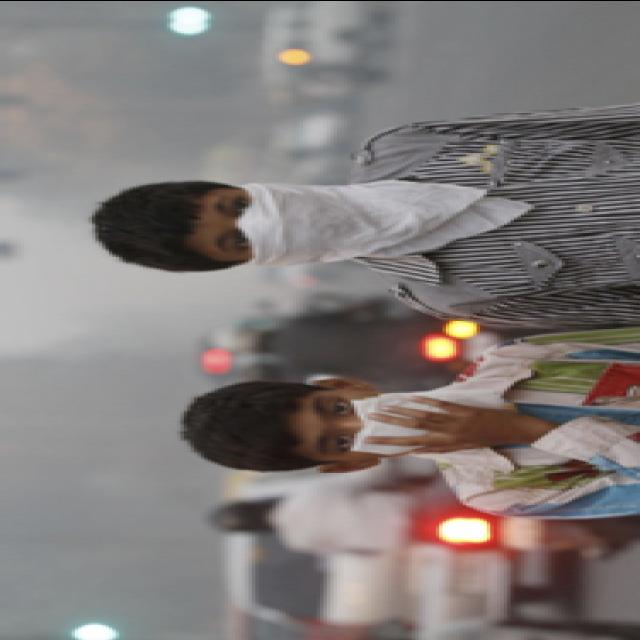with_mask: (204, 185, 347, 262), (303, 388, 446, 462)
